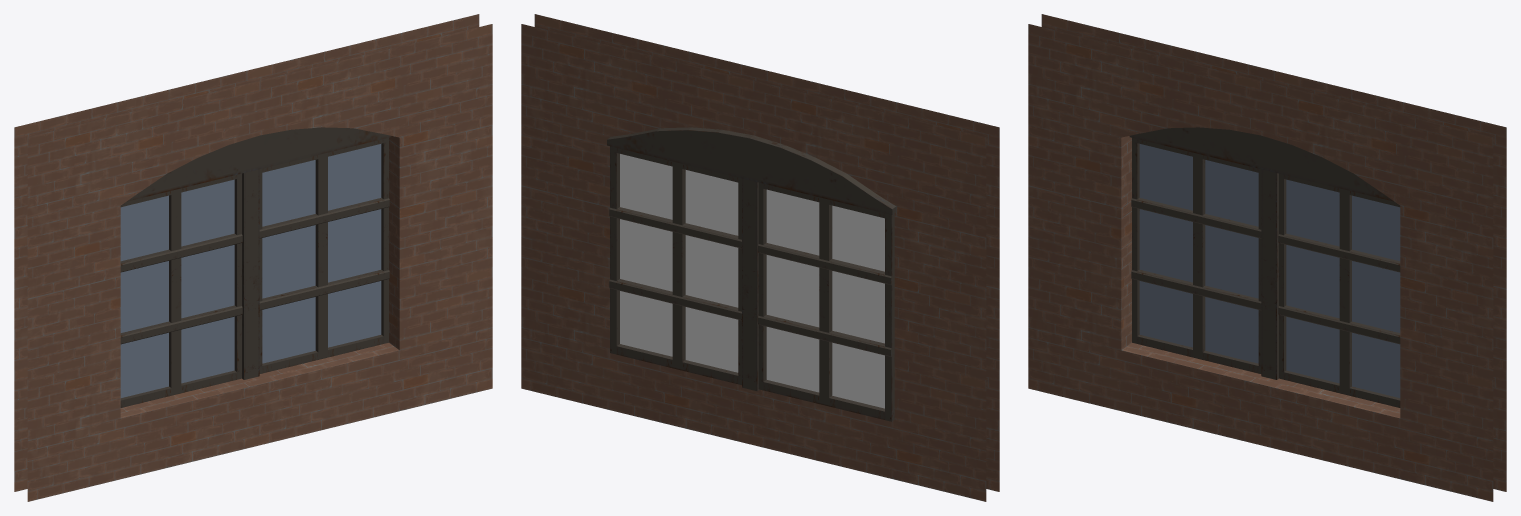
The model's file is Brick_Window_CurvedDouble.gltf.
The picture shows the model from 3 angles, left to right: view 1: azimuth 30°, elevation 25°; view 2: azimuth 150°, elevation 25°; view 3: azimuth 330°, elevation 25°; orthographic projection.
Visible parts, largest first — view 1: Brick_Window_CurvedDouble; view 2: Brick_Window_CurvedDouble; view 3: Brick_Window_CurvedDouble.
Part boxes in pixels (<box>): Brick_Window_CurvedDouble: <box>14,14,492,501</box>; Brick_Window_CurvedDouble: <box>521,14,999,501</box>; Brick_Window_CurvedDouble: <box>1028,14,1506,501</box>.
Bounding box in the file's own units: 4 × 3 × 0.2605.
Materials: 5 (3 with a texture image).
